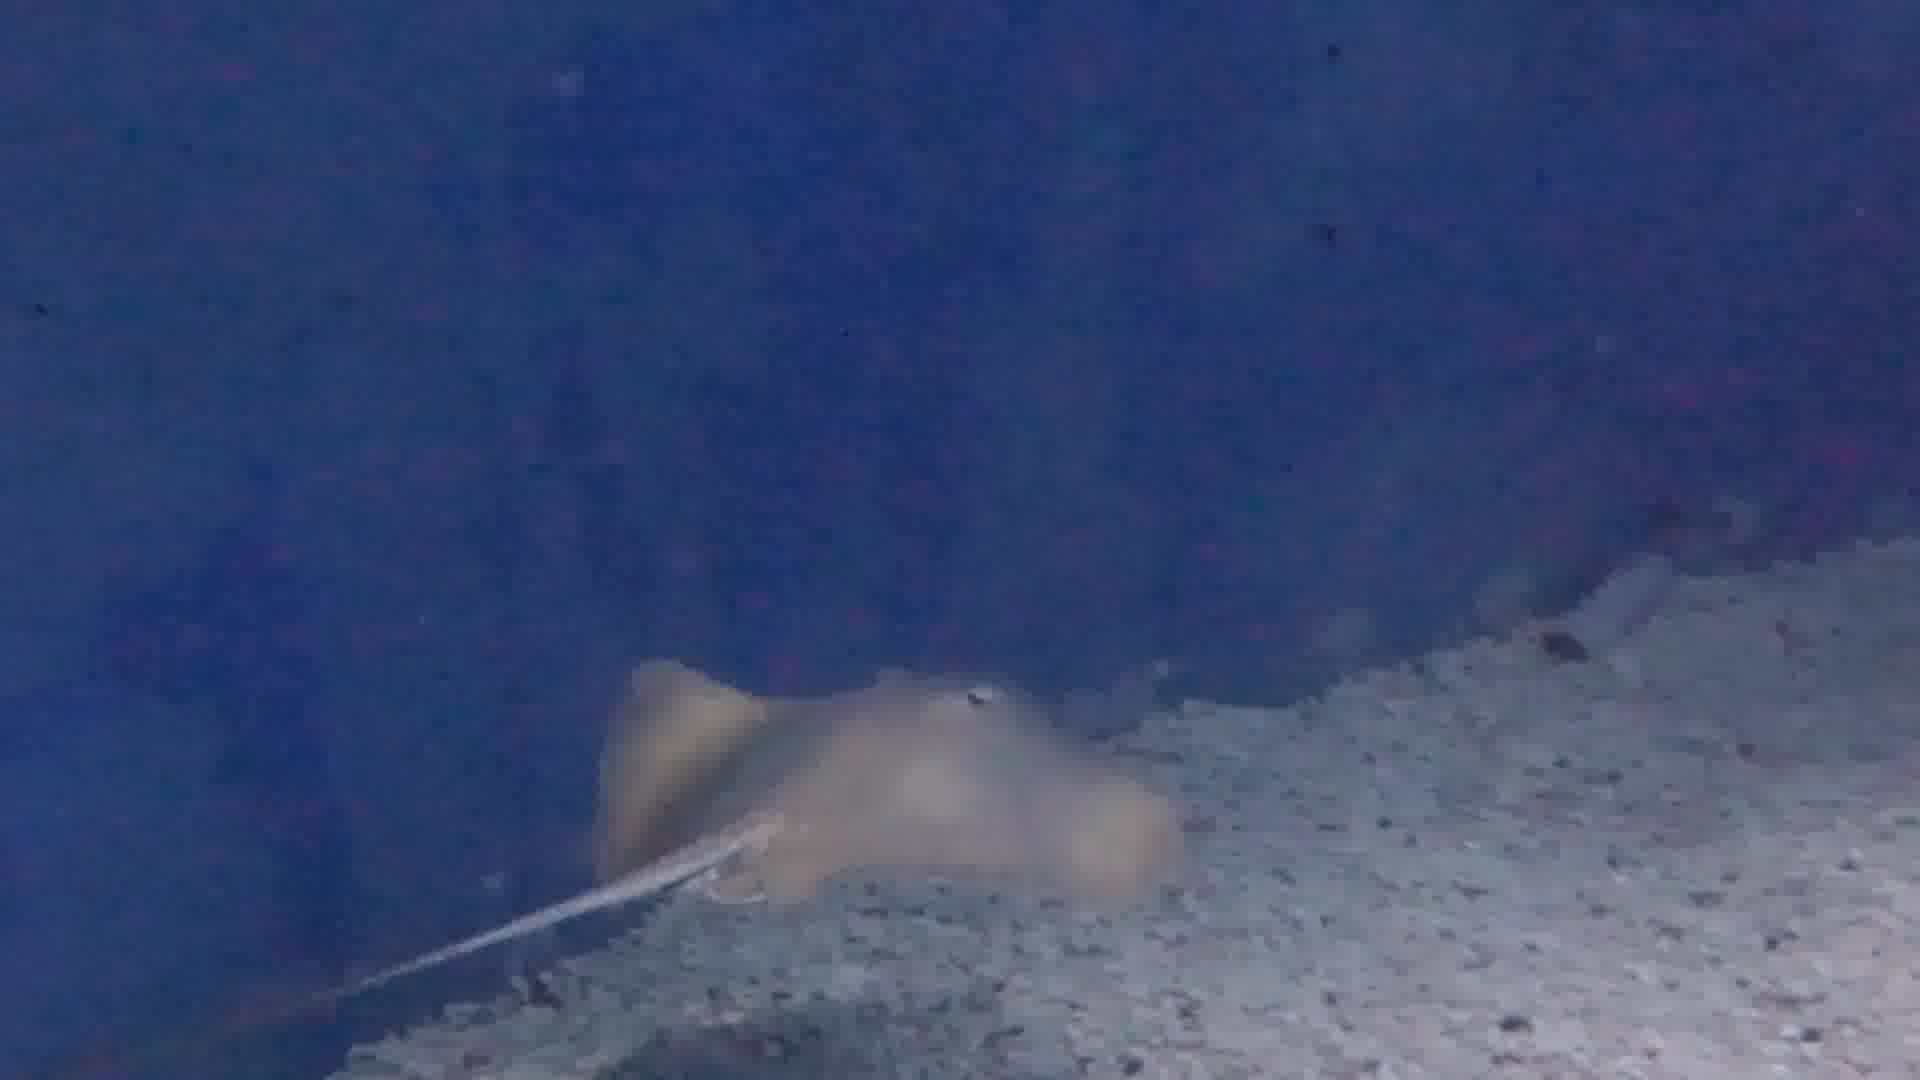Himantura gerrardi: (142, 622, 1208, 1076)
